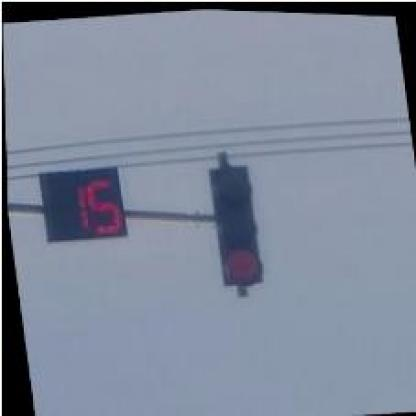red: (205, 158, 264, 285)
